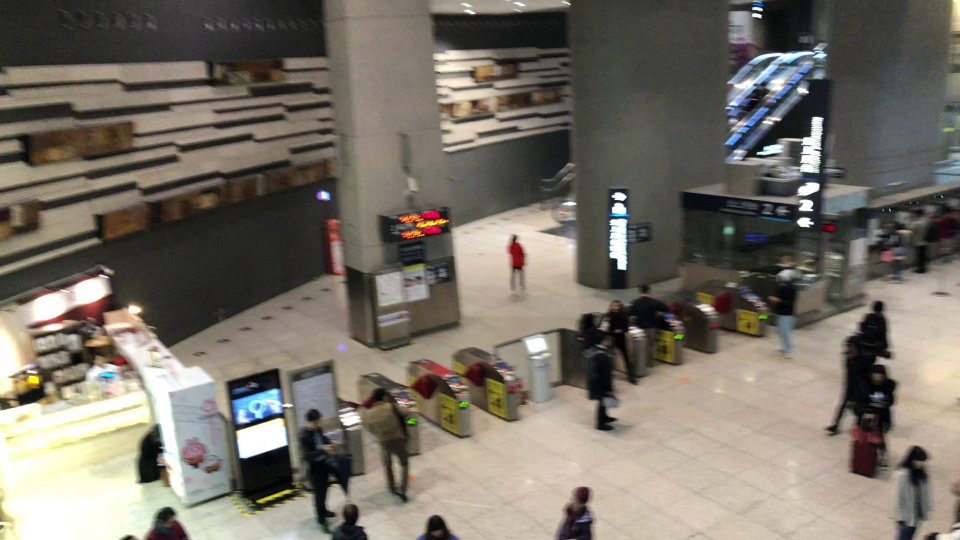person_head: (425, 514, 450, 538), (905, 445, 929, 469), (155, 506, 176, 525), (775, 269, 800, 283), (303, 408, 322, 426), (591, 328, 611, 345), (845, 335, 861, 356), (343, 503, 358, 525), (572, 486, 590, 504), (872, 364, 887, 384), (150, 422, 161, 439), (638, 282, 652, 295), (608, 299, 623, 311), (370, 387, 385, 399), (871, 300, 885, 312), (914, 208, 924, 217), (893, 222, 904, 230), (510, 234, 518, 242)
person_vbox: (359, 387, 410, 503), (295, 409, 341, 535), (823, 335, 873, 433), (854, 365, 897, 466), (885, 446, 931, 540), (580, 328, 617, 433), (628, 283, 669, 367), (766, 269, 801, 359), (604, 300, 639, 384), (555, 486, 594, 540), (904, 209, 931, 273), (135, 423, 162, 482), (144, 505, 189, 540), (861, 301, 889, 356), (887, 223, 912, 283), (331, 503, 368, 540), (504, 241, 527, 292), (415, 514, 460, 540)
